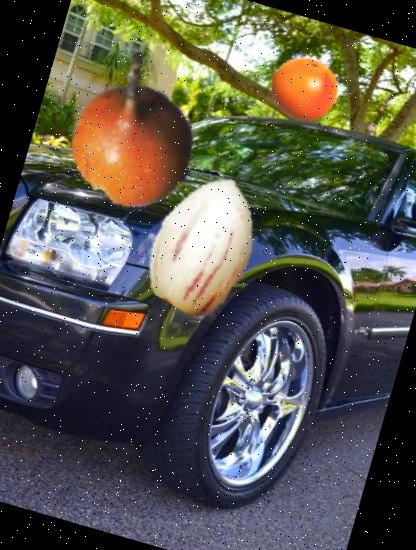Granadilla: (48, 45, 231, 228)
Grapefruit: (262, 47, 346, 131)
Pepino: (119, 158, 291, 330)
